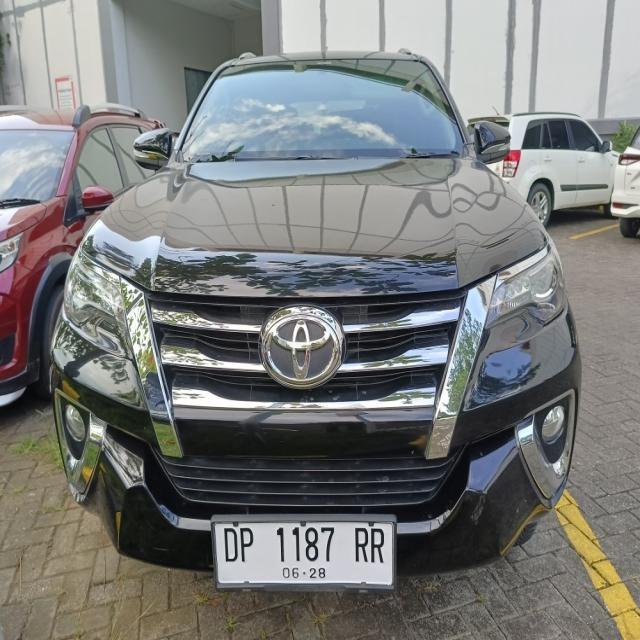plates: (206, 515, 397, 589)
